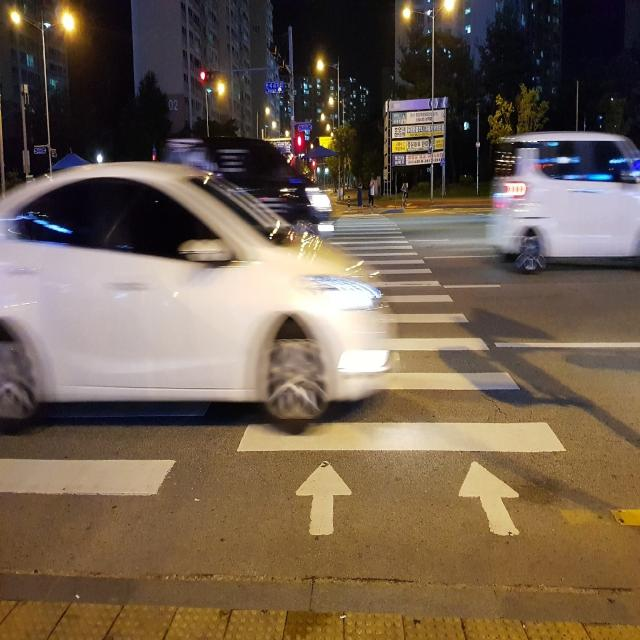횡단보도: (0, 215, 566, 535)
